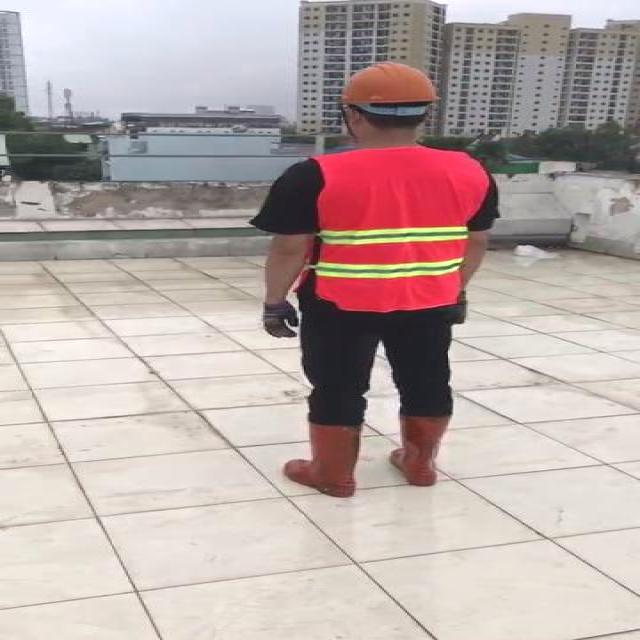boots: (281, 421, 368, 499), (388, 416, 460, 486)
hand_glove: (260, 300, 298, 341)
head_helmet: (335, 58, 444, 106)
person: (241, 47, 507, 508)
vest: (308, 147, 487, 312)
